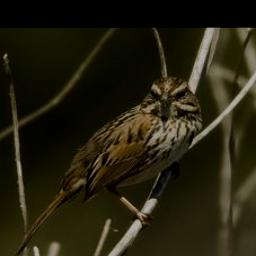Sparrow: (15, 76, 204, 256)
